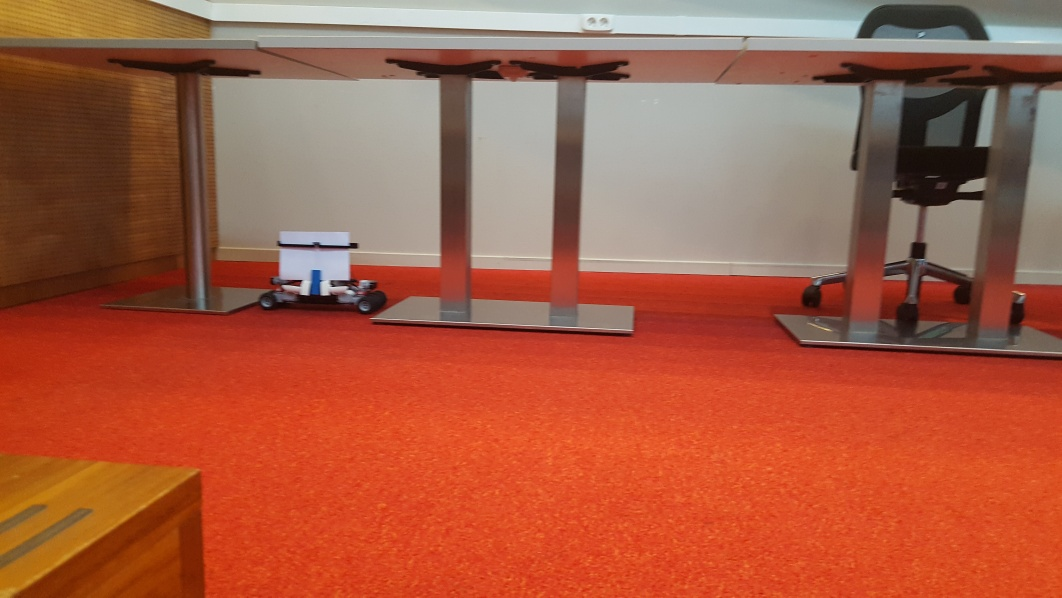car: (257, 229, 388, 317)
